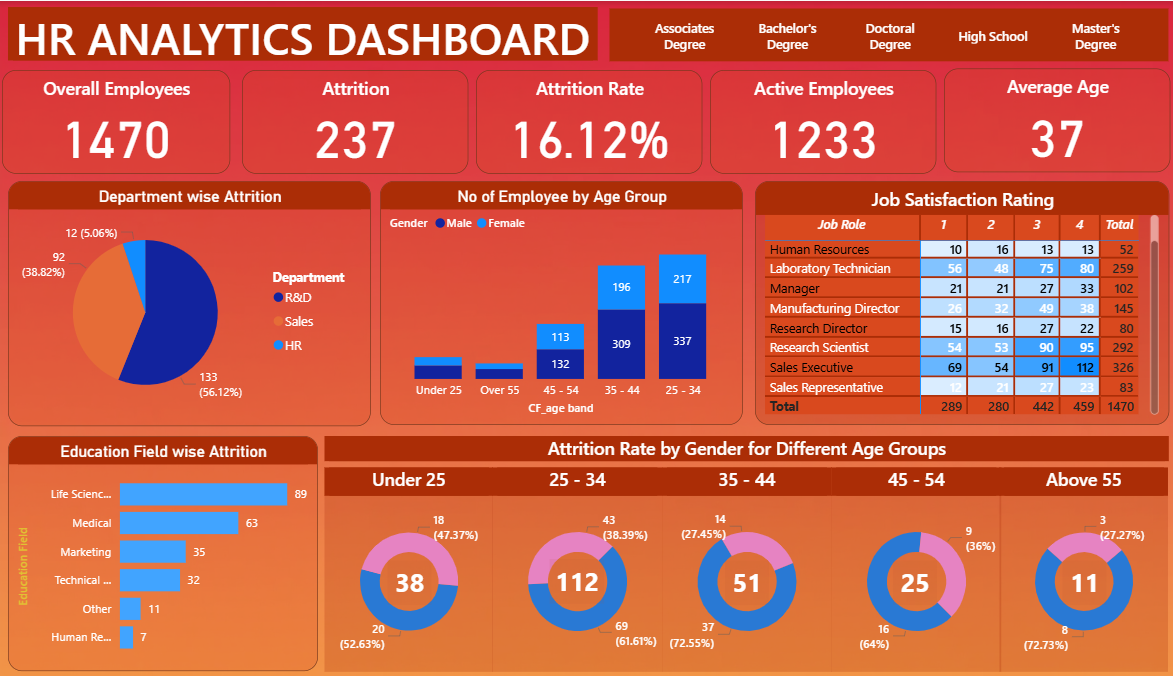

Layout of this report page (visuals, bound fields, positions):
{"tool":"powerbi","page":{"name":"Page 1","canvas":[1280,720],"ordinal":0},"visuals":[{"type":"card","title":"Overall Employees","fields":{"Values":["Sum(HR data.Employee Count)"]},"box":[19,72.9,241.8,109.8],"z":0},{"type":"card","title":"Attrition","fields":{"Values":["Sum(HR data.Attrition Count)"]},"box":[273.3,72.6,240.2,110],"z":1000},{"type":"card","title":"Attrition Rate","fields":{"Values":["HR data.Attrition Rate"]},"box":[521,72.6,240.2,110],"z":2000},{"type":"card","title":"Active Employees","fields":{"Values":["HR data.Active Employees"]},"box":[769.7,72.6,240.2,110],"z":3000},{"type":"card","title":"Average Age","fields":{"Values":["Avg(HR data.Age)"]},"box":[1017.4,71.5,240.2,110],"z":4000},{"type":"pieChart","title":"Department wise Attrition","fields":{"Category":["HR data.Department"],"Y":["Sum(HR data.Attrition Count)"]},"box":[25.4,190.5,384.9,259.9],"z":5000},{"type":"columnChart","title":"No of Employee by Age Group","fields":{"Category":["HR data.CF_age band"],"Y":["Sum(HR data.Employee Count)"],"Series":["HR data.Gender"]},"box":[420.1,191.5,384.9,258.9],"z":6000},{"type":"pivotTable","title":"Job Satisfaction Rating","fields":{"Rows":["HR data.Job Role"],"Columns":["HR data.Job Satisfaction"],"Values":["Sum(HR data.Employee Count)"]},"box":[817.7,191.5,439.6,258.9],"z":7000},{"type":"barChart","title":"Education Field wise Attrition","fields":{"Category":["HR data.Education Field"],"Y":["Sum(HR data.Attrition Count)"]},"box":[25.3,461.5,328.4,249.2],"z":8000},{"type":"donutChart","title":"Under 25","fields":{"Category":["HR data.Gender"],"Y":["Sum(HR data.Attrition Count)"],"Series":["HR data.CF_age band"]},"box":[361.5,494.3,178.8,216.9],"z":9000},{"type":"textbox","title":"Attrition Rate by Gender for Different Age Groups","box":[361.2,461.5,895.6,26.4],"z":10000},{"type":"donutChart","title":"25 - 34","fields":{"Category":["HR data.Gender"],"Y":["Sum(HR data.Attrition Count)"],"Series":["HR data.CF_age band"]},"box":[539.3,494.3,179.8,216.9],"z":11000},{"type":"donutChart","title":"35 - 44","fields":{"Category":["HR data.Gender"],"Y":["Sum(HR data.Attrition Count)"],"Series":["HR data.CF_age band"]},"box":[719,494.3,179.8,216.9],"z":12000},{"type":"donutChart","title":"45 - 54","fields":{"Category":["HR data.Gender"],"Y":["Sum(HR data.Attrition Count)"],"Series":["HR data.CF_age band"]},"box":[898.8,494.3,179.8,216.9],"z":13000},{"type":"donutChart","title":"Above 55","fields":{"Category":["HR data.Gender"],"Y":["Sum(HR data.Attrition Count)"],"Series":["HR data.CF_age band"]},"box":[1077.6,494.3,178.8,216.9],"z":14000},{"type":"card","fields":{"Values":["Sum(HR data.Attrition Count)"]},"box":[427.7,593.5,46.5,47.5],"z":14001},{"type":"card","fields":{"Values":["Sum(HR data.Attrition Count)"]},"box":[599.9,592.5,58.1,47.5],"z":14002},{"type":"card","fields":{"Values":["Sum(HR data.Attrition Count)"]},"box":[785.7,593.5,46.5,47.5],"z":14003},{"type":"card","fields":{"Values":["Sum(HR data.Attrition Count)"]},"box":[963.2,593.5,46.5,47.5],"z":14004},{"type":"card","fields":{"Values":["Sum(HR data.Attrition Count)"]},"box":[1143.8,593.5,46.5,47.5],"z":14005},{"type":"textbox","title":"HR ANALYTICS DASHBOARD","box":[25.4,6.8,625.2,56.7],"z":14006},{"type":"slicer","fields":{"Values":["HR data.Education"]},"box":[663.3,7.8,593,55.7],"z":14007}]}

Visuals, with their boxes in screenshot pixels (x1, y1, x2, y2), scaled from the page's 1280x720 canvas onto the 1173x676 screenshot:
"Overall Employees" card: locate(17, 68, 239, 172)
"Attrition" card: locate(250, 68, 471, 171)
"Attrition Rate" card: locate(477, 68, 698, 171)
"Active Employees" card: locate(705, 68, 925, 171)
"Average Age" card: locate(932, 67, 1152, 170)
"Department wise Attrition" pieChart: locate(23, 179, 376, 423)
"No of Employee by Age Group" columnChart: locate(385, 180, 738, 423)
"Job Satisfaction Rating" pivotTable: locate(749, 180, 1152, 423)
"Education Field wise Attrition" barChart: locate(23, 433, 324, 667)
"Under 25" donutChart: locate(331, 464, 495, 668)
"Attrition Rate by Gender for Different Age Groups" textbox: locate(331, 433, 1152, 458)
"25 - 34" donutChart: locate(494, 464, 659, 668)
"35 - 44" donutChart: locate(659, 464, 824, 668)
"45 - 54" donutChart: locate(824, 464, 988, 668)
"Above 55" donutChart: locate(988, 464, 1151, 668)
card - Sum(HR data.Attrition Count): locate(392, 557, 435, 602)
card - Sum(HR data.Attrition Count): locate(550, 556, 603, 601)
card - Sum(HR data.Attrition Count): locate(720, 557, 763, 602)
card - Sum(HR data.Attrition Count): locate(883, 557, 925, 602)
card - Sum(HR data.Attrition Count): locate(1048, 557, 1091, 602)
"HR ANALYTICS DASHBOARD" textbox: locate(23, 6, 596, 60)
slicer - HR data.Education: locate(608, 7, 1151, 60)
